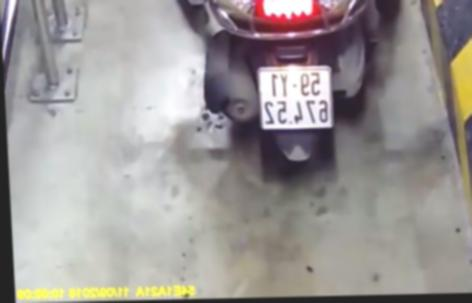License_Plate: (243, 61, 342, 133)
